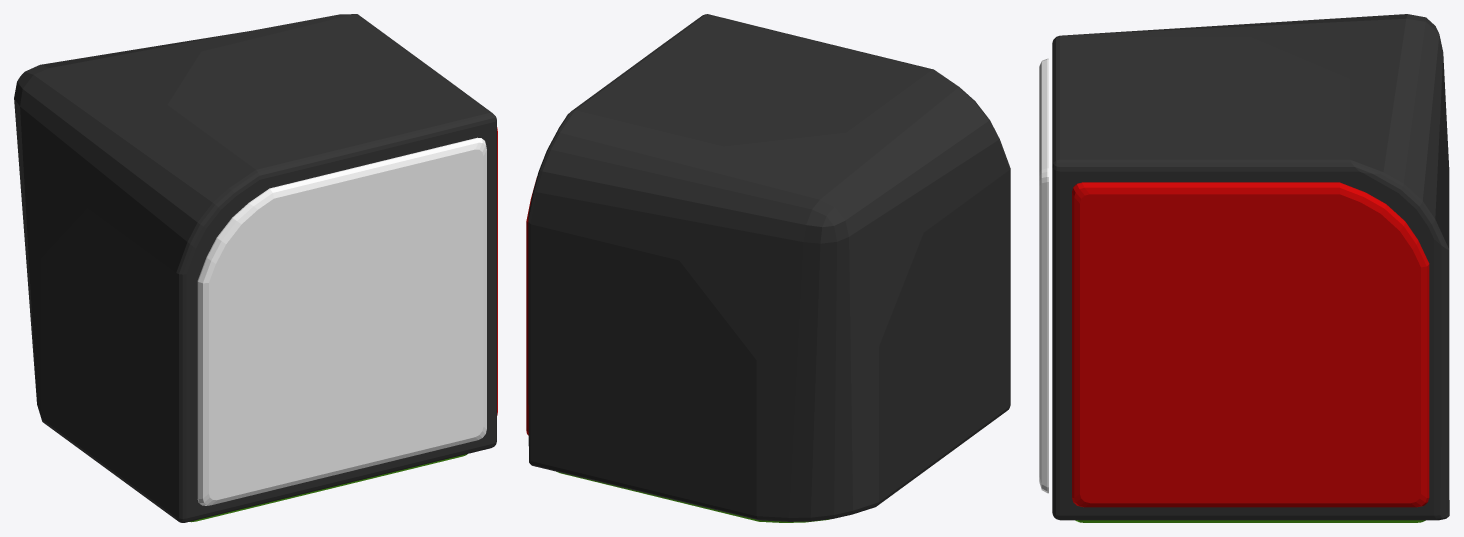
3 renders of one model, left to right at view 1: azimuth 30°, elevation 25°; view 2: azimuth 150°, elevation 25°; view 3: azimuth 270°, elevation 25°, orthographic. The views are drawn at different scales.
Parts seen in each view (by area): view 1: Cube.017, Cube.075, Cube.039; view 2: Cube.017, Cube.036; view 3: Cube.036, Cube.017, Cube.075, Cube.039.
Part boxes in pixels (box(x1,y1,x2,y2)): Cube.017: box(14, 14, 496, 522); Cube.075: box(197, 137, 486, 505); Cube.039: box(189, 454, 467, 522); Cube.017: box(528, 14, 1010, 521); Cube.036: box(526, 177, 536, 435); Cube.036: box(1072, 182, 1429, 507); Cube.017: box(1052, 14, 1449, 520); Cube.075: box(1039, 58, 1048, 493); Cube.039: box(1075, 520, 1425, 522).
Bounding box in the file's own units: 206 × 206 × 207.
